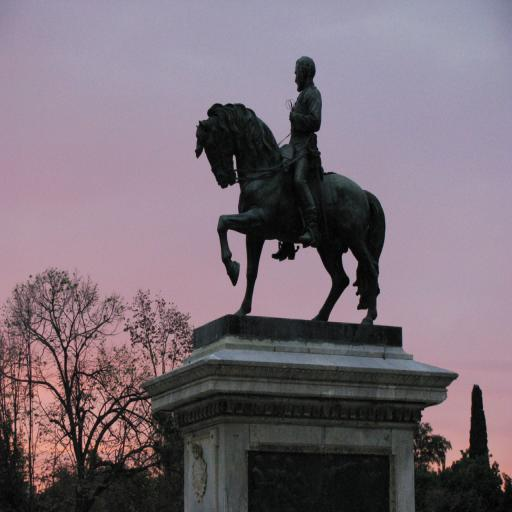horse: (196, 102, 386, 328)
